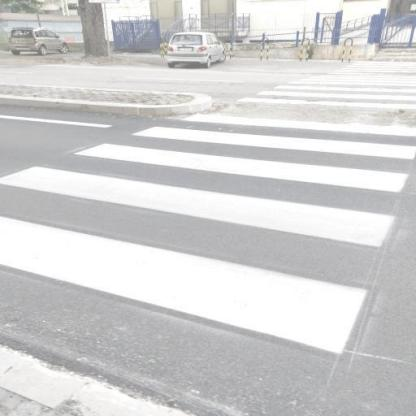crosswalk: (70, 118, 415, 199)
